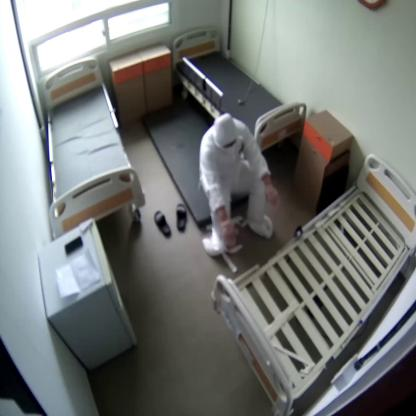Person: (199, 112, 279, 256)
